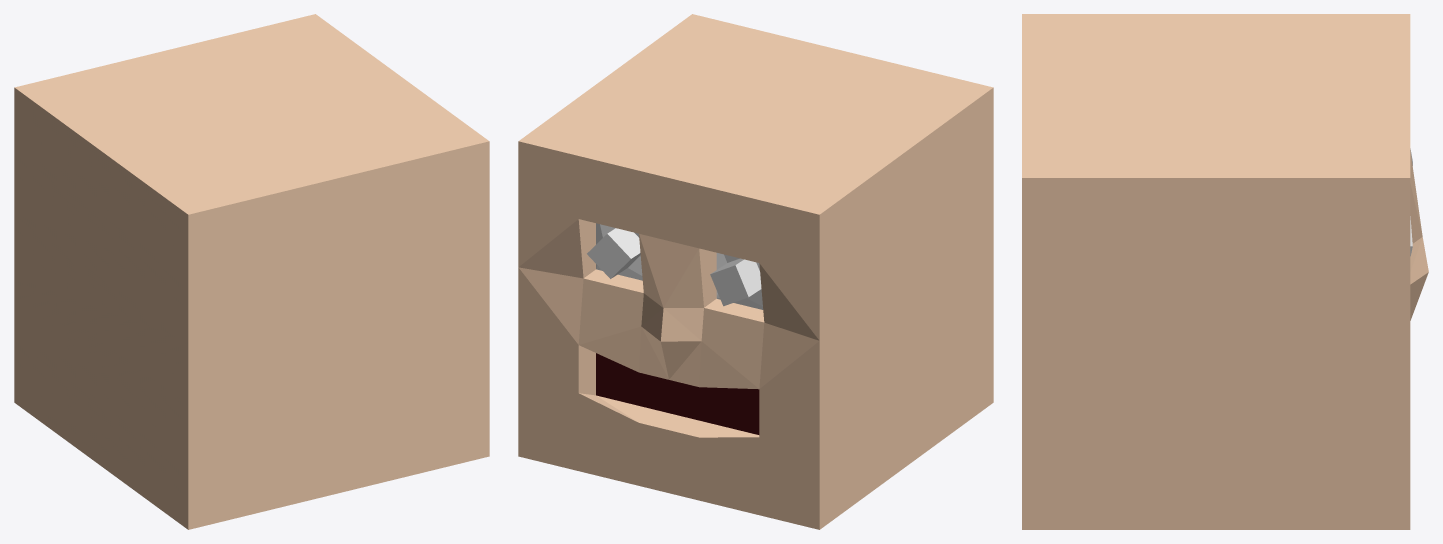
File: cube_skn_2.dae
The picture shows the model from 3 angles, left to right: view 1: azimuth 30°, elevation 25°; view 2: azimuth 150°, elevation 25°; view 3: azimuth 270°, elevation 25°; orthographic projection. The views are drawn at different scales.
Parts seen in each view (by area): view 1: Cube; view 2: Cube; view 3: Cube.
Boxes of the visible parts, box(x1,y1,x2,y2) form: Cube: box(14, 14, 489, 529); Cube: box(518, 14, 993, 529); Cube: box(1022, 14, 1428, 529).
Size of the model in its own units: 2 by 2.1 by 2.
